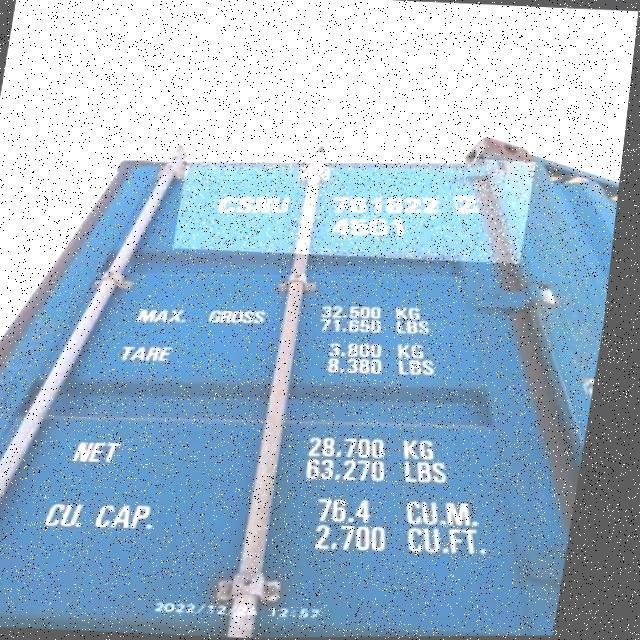container_number_h: (177, 145, 542, 267)
